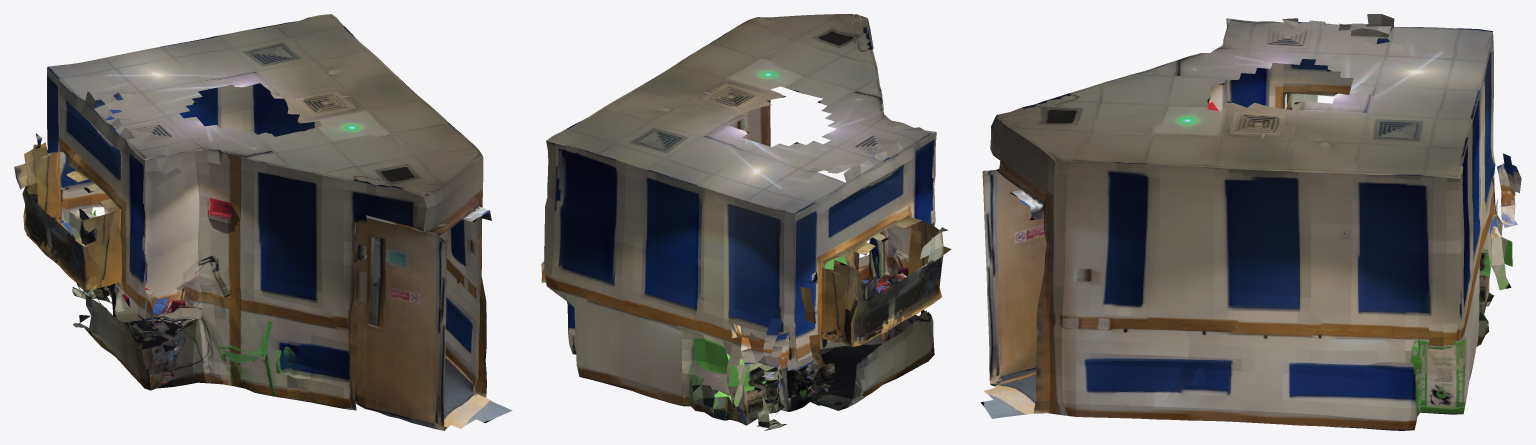
Rendered from M211_studio_1-IM.fbx.
The picture shows the model from 3 angles, left to right: view 1: azimuth 30°, elevation 25°; view 2: azimuth 150°, elevation 25°; view 3: azimuth 270°, elevation 25°; orthographic projection. The views are drawn at different scales.
Parts seen in each view (by area): view 1: M211_studio_1-IM; view 2: M211_studio_1-IM; view 3: M211_studio_1-IM.
Part boxes in pixels (bbox=[...]): M211_studio_1-IM: bbox=[14, 14, 512, 430]; M211_studio_1-IM: bbox=[541, 14, 951, 430]; M211_studio_1-IM: bbox=[981, 14, 1521, 430].
Bounding box in the file's own units: 373 × 260 × 461.
Materials: 1 (1 with a texture image).
